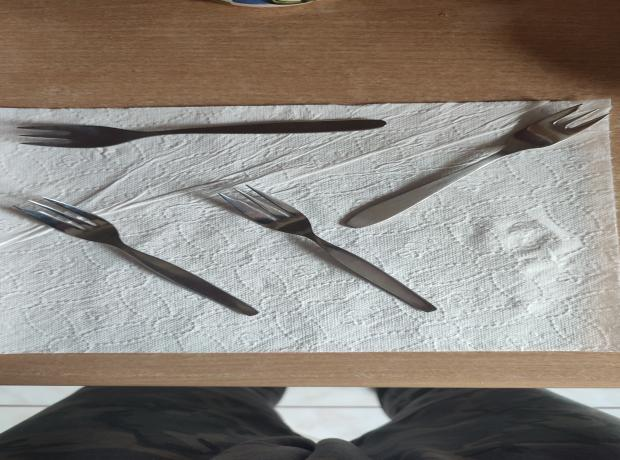metal: (344, 103, 609, 228), (14, 197, 259, 316), (219, 184, 435, 311), (18, 119, 385, 149)
